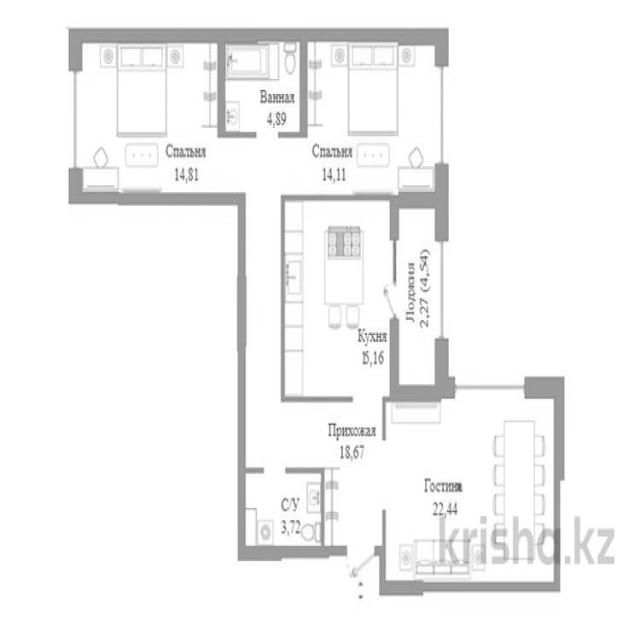balcony: (396, 204, 448, 394)
bathroom: (225, 33, 304, 131), (239, 472, 323, 550)
hallway: (241, 135, 285, 463), (326, 405, 383, 552)
kitchen: (282, 200, 395, 400)
living_room: (383, 392, 560, 587), (303, 37, 444, 199), (76, 37, 221, 194)
